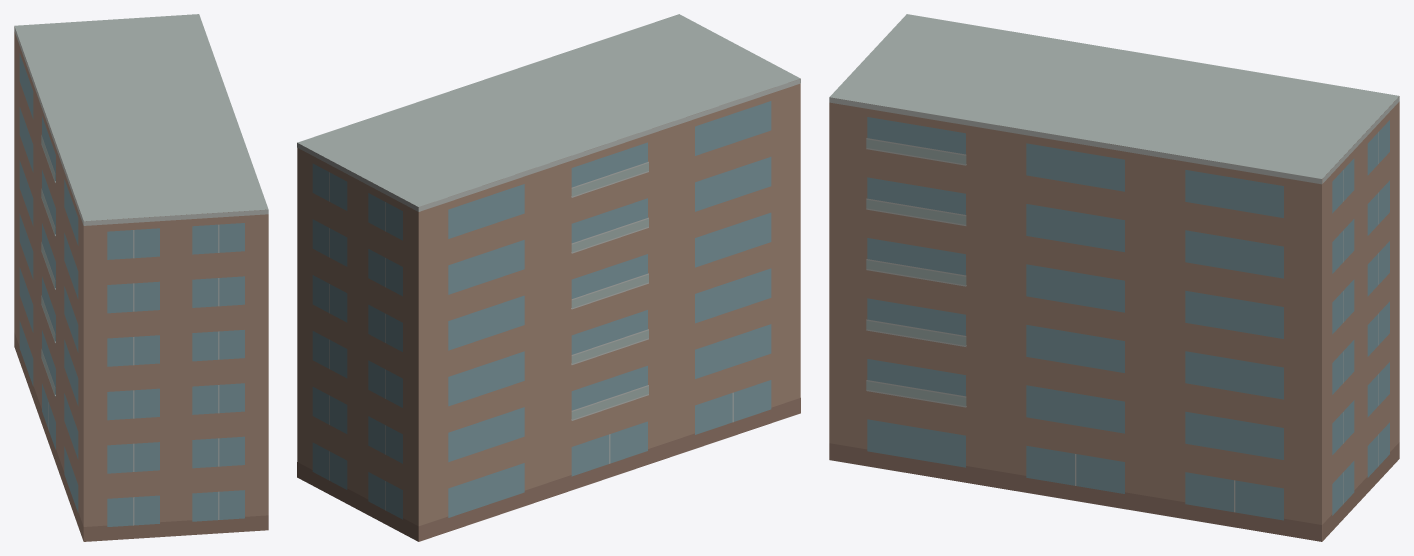
File: survey-upis-32878013.glb
3 views of the same model, side by side, from view 1: azimuth 30°, elevation 25°; view 2: azimuth 150°, elevation 25°; view 3: azimuth 270°, elevation 25° (orthographic). The views are drawn at different scales.
Visible parts, largest first — view 1: survey-upis-32878013.tmp; view 2: survey-upis-32878013.tmp; view 3: survey-upis-32878013.tmp.
Boxes of the visible parts, x1,y1,x2,y2 form: survey-upis-32878013.tmp: (14, 14, 268, 541); survey-upis-32878013.tmp: (297, 14, 800, 541); survey-upis-32878013.tmp: (829, 14, 1399, 541).
Size of the model in its own units: 16.21 by 16.6 by 23.65.
